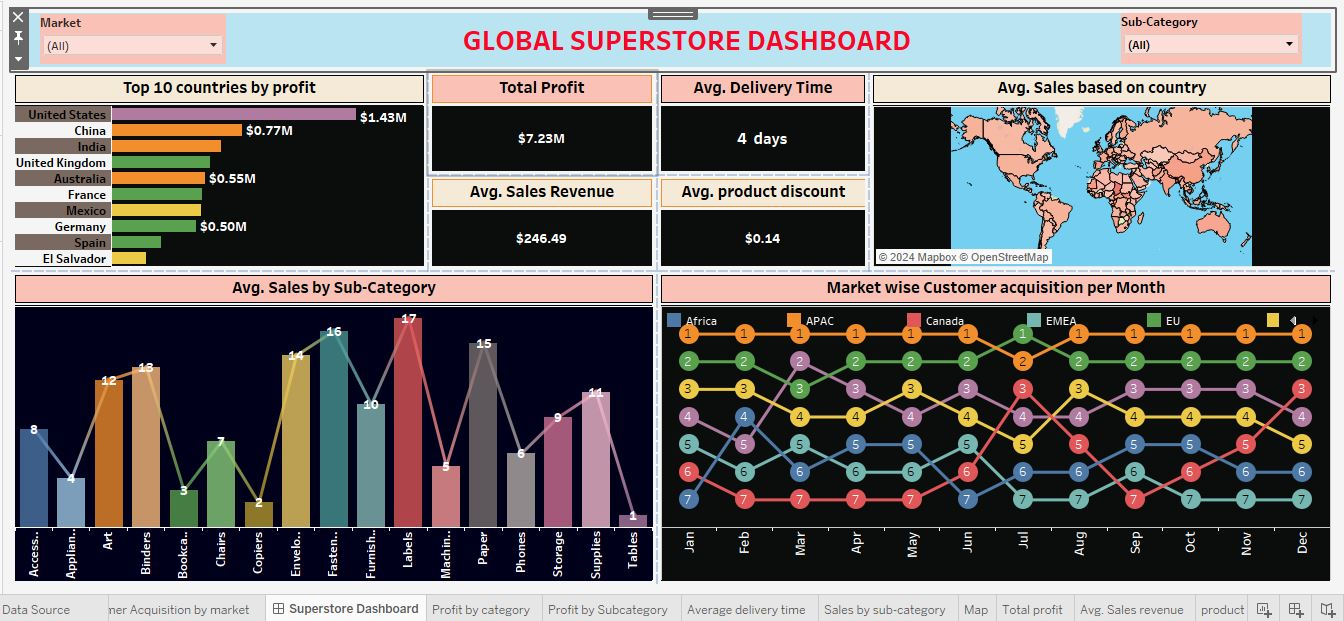

The dashboard page shown, as its layout file describes it:
{"tool":"tableau","page":{"name":"Dashboard 1","canvas":[1000,1000],"units":"permille","ordinal":0},"visuals":[{"type":"title","box":[6.9,13.5,986.1,104.7]},{"type":"filter","title":"Sales by sub-category","param":"[federated.1igqktj0hrzqc51cd87451676j0i].[none:Sub-Category:nk]","box":[834.3,20.3,135.1,86.2]},{"type":"filter","title":"Customer Acquisition by market","param":"[federated.1igqktj0hrzqc51cd87451676j0i].[none:Market:nk]","box":[27.6,22,138.8,84.5]},{"type":"text","box":[284.9,22,451.1,84.5]},{"type":"worksheet","title":"Profit by countries","mark":"Automatic","rows":["Country"],"cols":["Calculation_165225870851772416"],"box":[6.9,118.2,310.9,337.4]},{"type":"worksheet","title":"Total profit","mark":"Automatic","box":[317.9,118.2,170.2,176.5]},{"type":"worksheet","title":"Average delivery time","mark":"Automatic","box":[488,118.2,158.2,176.5]},{"type":"worksheet","title":"Map","mark":"Automatic","box":[646.2,118.2,346.9,337.4]},{"type":"worksheet","title":"Avg. Sales revenue","mark":"Automatic","box":[317.9,294.7,170,160.9]},{"type":"worksheet","title":"product discount","mark":"Automatic","box":[487.8,294.7,158.4,160.9]},{"type":"worksheet","title":"Sales by sub-category","mark":"Bar","cols":["Sub-Category"],"box":[6.9,455.7,481.2,530.8]},{"type":"worksheet","title":"Customer Acquisition by market","mark":"Line","rows":["Sales","Sales"],"cols":["Order Date"],"box":[488.1,455.7,505,530.8]},{"type":"legend","title":"Customer Acquisition by market","param":"[federated.1igqktj0hrzqc51cd87451676j0i].[none:Market:nk]","box":[493.3,522,496.3,35.5]}]}

Visuals, with their boxes on the dashboard's canvas, which has no fixed pixel size, in thousandths of its width and height (x1, y1, x2, y2). These are canvas units, not pixel positions in the 1344x621 screenshot, which may show the page scaled, cropped or inside an application window:
title: 7/14/993/118
"Sales by sub-category" filter: 834/20/969/106
"Customer Acquisition by market" filter: 28/22/166/106
text: 285/22/736/106
"Profit by countries" worksheet: 7/118/318/456
"Total profit" worksheet: 318/118/488/295
"Average delivery time" worksheet: 488/118/646/295
"Map" worksheet: 646/118/993/456
"Avg. Sales revenue" worksheet: 318/295/488/456
"product discount" worksheet: 488/295/646/456
"Sales by sub-category" worksheet (Bar marks): 7/456/488/986
"Customer Acquisition by market" worksheet (Line marks): 488/456/993/986
"Customer Acquisition by market" legend: 493/522/990/558
